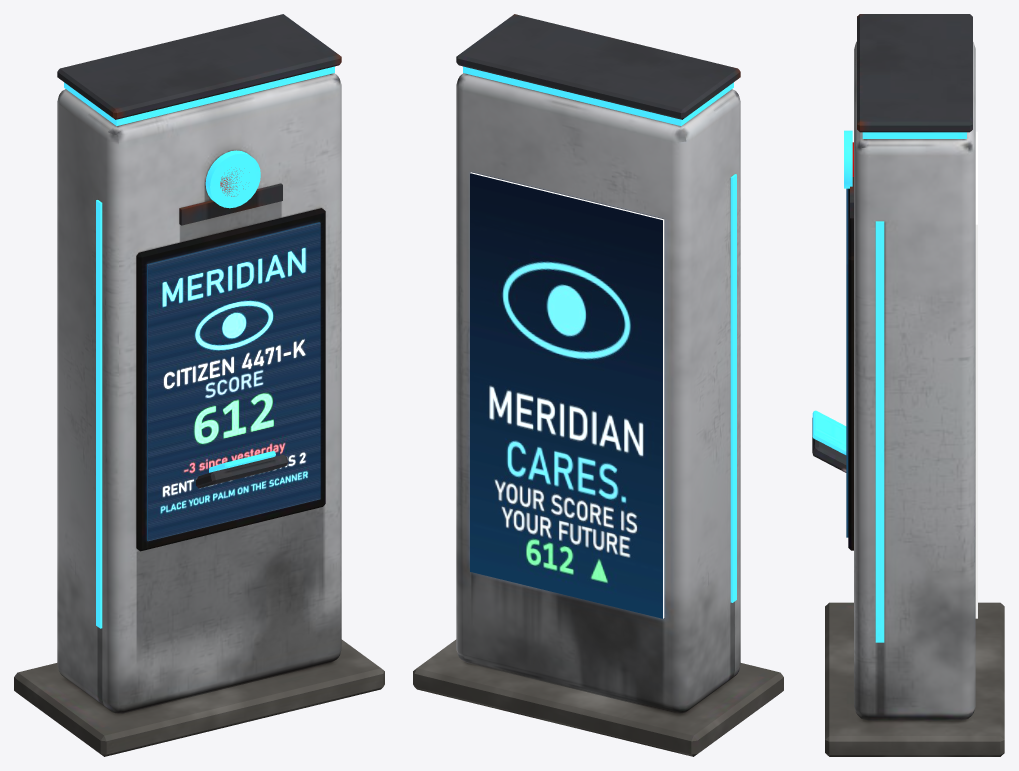
The model's file is data_kiosk.glb.
3 views of the same model, side by side, from view 1: azimuth 30°, elevation 25°; view 2: azimuth 150°, elevation 25°; view 3: azimuth 270°, elevation 25° (orthographic).
Visible parts, largest first — view 1: data_kiosk; view 2: data_kiosk; view 3: data_kiosk.
Part boxes in pixels (x1,y1,x2,y2): data_kiosk: (14,14,384,756); data_kiosk: (413,14,783,756); data_kiosk: (812,14,1004,756).
Size of what is drawn, in the model's own units: 1.12 by 2.37 by 0.6643.
Materials: 1 (1 with a texture image).
